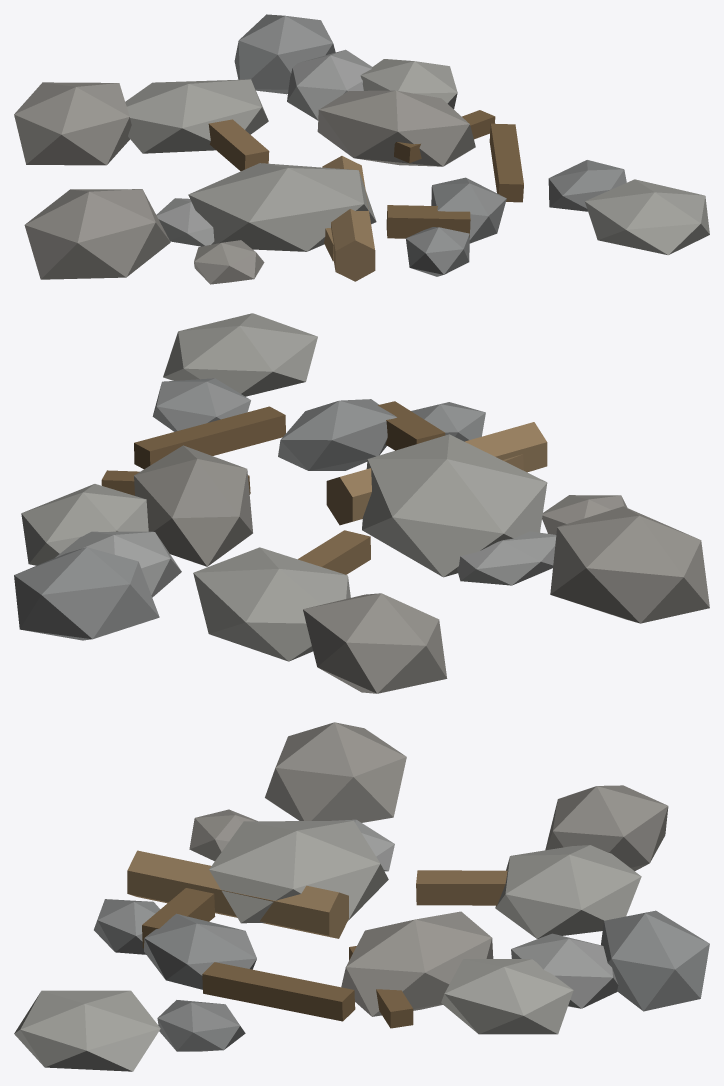
The model's file is build_point_lowpoly.glb.
3 views of the same model, one above another, from view 1: azimuth 30°, elevation 25°; view 2: azimuth 150°, elevation 25°; view 3: azimuth 270°, elevation 25° (orthographic). The views are drawn at different scales.
Parts seen in each view (by area): view 1: build_point_lowpoly; view 2: build_point_lowpoly; view 3: build_point_lowpoly.
Boxes of the visible parts, <box> form: build_point_lowpoly: <box>14,14,709,284</box>; build_point_lowpoly: <box>14,313,709,693</box>; build_point_lowpoly: <box>14,722,709,1071</box>.
Bounding box in the file's own units: 0.58 × 0.0881 × 0.5569.
